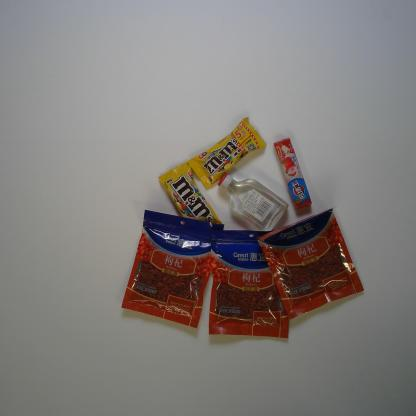Alcohol: (217, 172, 289, 232)
Candy: (274, 138, 312, 209)
Chocolate: (187, 117, 268, 191), (158, 161, 223, 234)
Dried Fruit: (121, 209, 225, 329), (257, 207, 365, 321), (208, 228, 290, 340)
